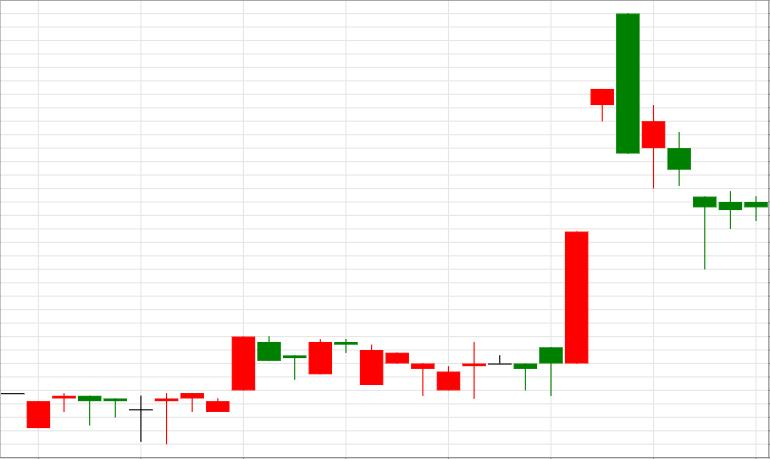bearish_engulfing_fall: (463, 13, 640, 398)
